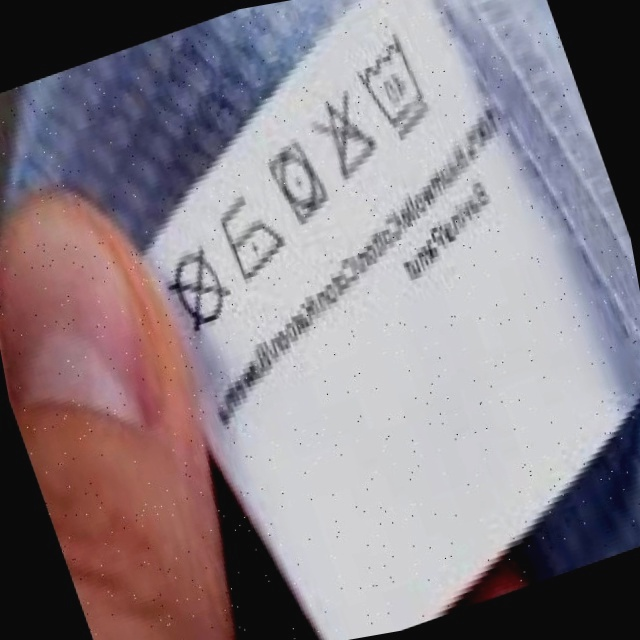40C: (345, 26, 449, 145)
DN_bleach: (302, 84, 391, 189)
DN_dry_clean: (153, 236, 245, 343)
iron_low: (206, 184, 296, 287)
tumble_dry_low: (259, 134, 339, 231)
